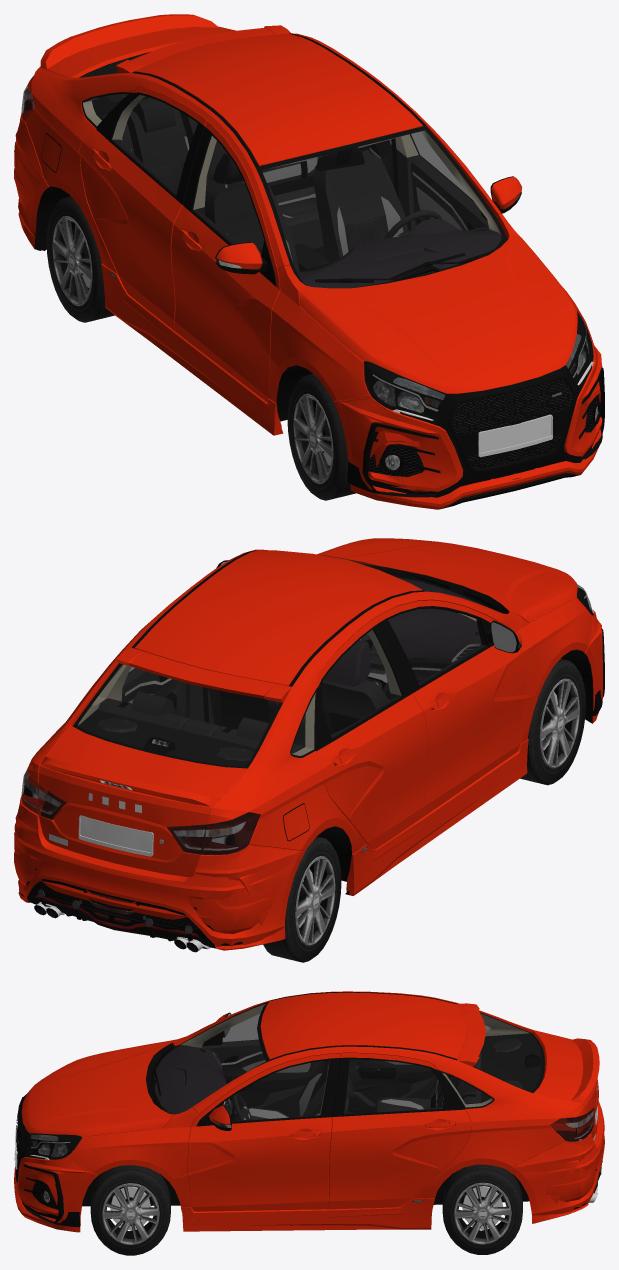
The model's file is vestaU.FBX.
3 views of the same model, one above another, from view 1: azimuth 30°, elevation 25°; view 2: azimuth 150°, elevation 25°; view 3: azimuth 270°, elevation 25° (orthographic). The views are drawn at different scales.
Visible parts, largest first — view 1: body, windscre01, hood, bumberF_2, seats, door_rf_ok, door_rr_ok, torpedo, wheel, wheel_rb, glass, fenderR_2 (+11 smaller); view 2: body, trunklid, glass, door_rf_ok, door_rr_ok, bumberR_1, hood, seats, torpedo, wheel_rb, wheel, bumberR_0 (+11 smaller); view 3: body, door_lf_ok, door_lr_ok, hood, windscre01, glass, wheel_lb, wheel_lf, fenderR_2, bumberF_2, door_lr_01, glass_lf_o (+13 smaller).
Boxes of the visible parts, x1=… form: body: x1=22, y1=26, x2=593, y2=421; windscre01: x1=256, y1=126, x2=507, y2=287; hood: x1=298, y1=235, x2=577, y2=393; bumberF_2: x1=334, y1=344, x2=604, y2=509; seats: x1=99, y1=98, x2=407, y2=272; door_rf_ok: x1=171, y1=120, x2=280, y2=402; door_rr_ok: x1=79, y1=87, x2=207, y2=331; torpedo: x1=294, y1=218, x2=501, y2=288; wheel: x1=287, y1=374, x2=355, y2=500; wheel_rb: x1=46, y1=196, x2=114, y2=322; glass: x1=21, y1=51, x2=593, y2=419; fenderR_2: x1=101, y1=263, x2=283, y2=435; body: x1=22, y1=549, x2=593, y2=881; trunklid: x1=38, y1=725, x2=247, y2=876; glass: x1=21, y1=584, x2=593, y2=854; door_rf_ok: x1=376, y1=600, x2=524, y2=816; door_rr_ok: x1=315, y1=617, x2=427, y2=849; bumberR_1: x1=14, y1=792, x2=304, y2=949; hood: x1=317, y1=538, x2=577, y2=622; seats: x1=98, y1=640, x2=389, y2=753; torpedo: x1=294, y1=577, x2=481, y2=746; wheel_rb: x1=263, y1=836, x2=341, y2=962; wheel: x1=520, y1=659, x2=585, y2=785; bumberR_0: x1=14, y1=788, x2=296, y2=933; body: x1=29, y1=991, x2=589, y2=1211; door_lf_ok: x1=187, y1=1053, x2=340, y2=1211; door_lr_ok: x1=329, y1=1053, x2=471, y2=1209; hood: x1=21, y1=1040, x2=173, y2=1137; windscre01: x1=150, y1=1002, x2=269, y2=1114; glass: x1=29, y1=1012, x2=595, y2=1159; wheel_lb: x1=442, y1=1164, x2=522, y2=1254; wheel_lf: x1=90, y1=1165, x2=170, y2=1255; fenderR_2: x1=181, y1=1198, x2=434, y2=1231; bumberF_2: x1=14, y1=1094, x2=97, y2=1232; door_lr_01: x1=344, y1=1059, x2=442, y2=1113; glass_lf_o: x1=224, y1=1060, x2=329, y2=1121.
Bounding box in the file's own units: 2.29 × 5.34 × 1.97.
